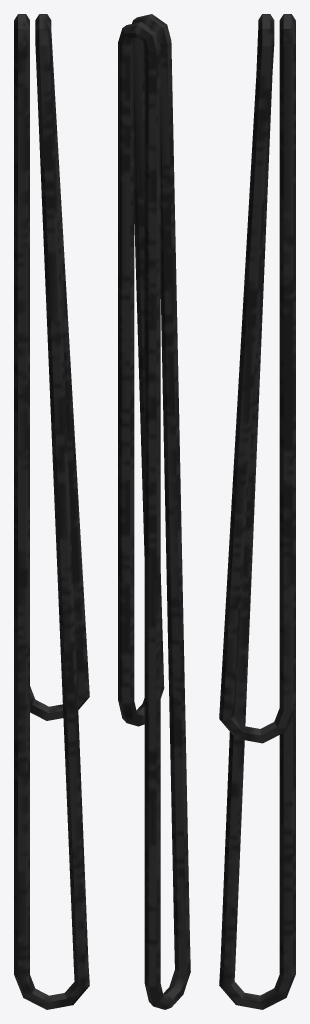
Rendered from RopeVertical1.fbx.
3 views of the same model, side by side, from view 1: azimuth 90°, elevation 25°; view 2: azimuth 150°, elevation 25°; view 3: azimuth 270°, elevation 25° (orthographic).
Parts seen in each view (by area): view 1: Cylinder.004; view 2: Cylinder.004; view 3: Cylinder.004.
Boxes of the visible parts, left/top/right/bottom form: Cylinder.004: left=14, top=14, right=89, bottom=1009; Cylinder.004: left=118, top=14, right=190, bottom=1009; Cylinder.004: left=219, top=14, right=295, bottom=1009.
Size of the model in its own units: 22.84 by 560 by 38.84.
